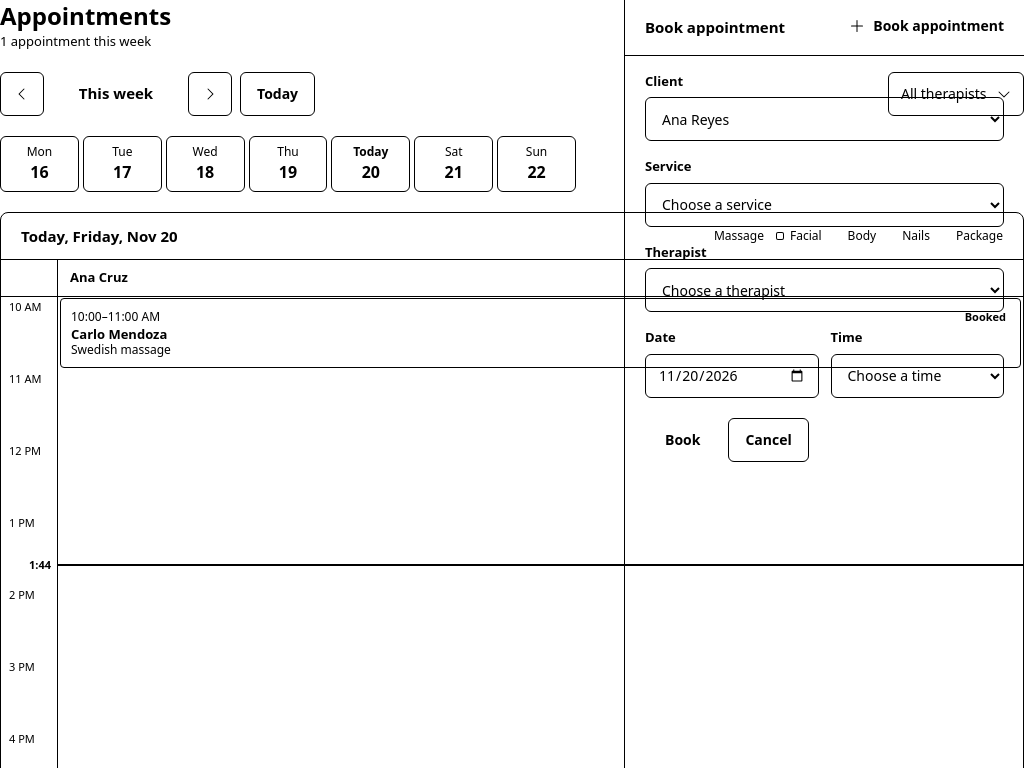
Scenario: Appointments › shows the overlap under the time, then books a free slot and lists it
Later steps or results of the test are not shown.
Select "Swedish massage · 60 min" in the dropdown with id "book-serviceId": (824, 204) [645,182,1004,226]
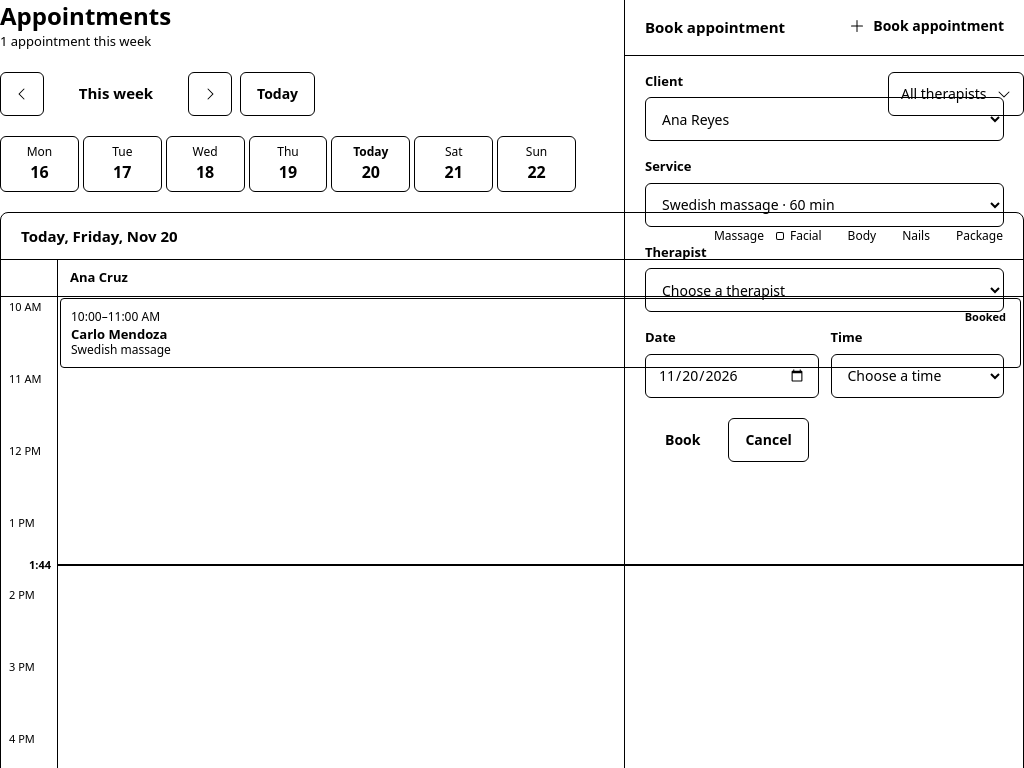
Select "Ana Cruz" in the dropdown with id "book-employeeId": (824, 290) [645,268,1004,312]
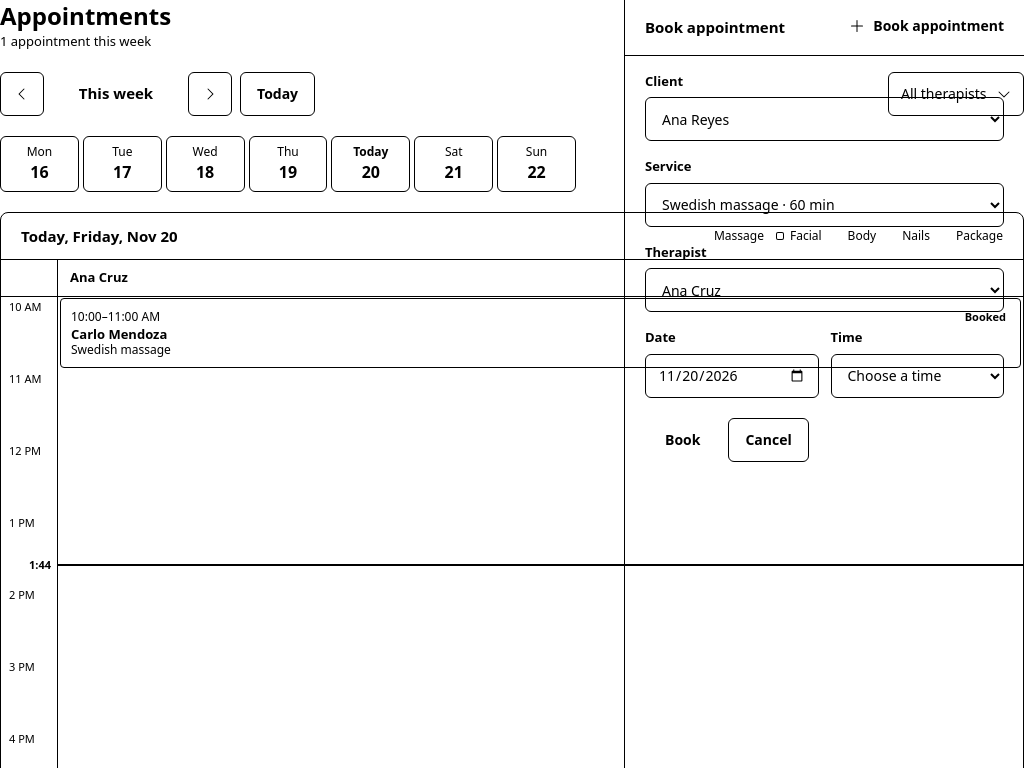
Select "10:30 AM" in the dropdown with id "book-time": (917, 376) [830,354,1004,398]
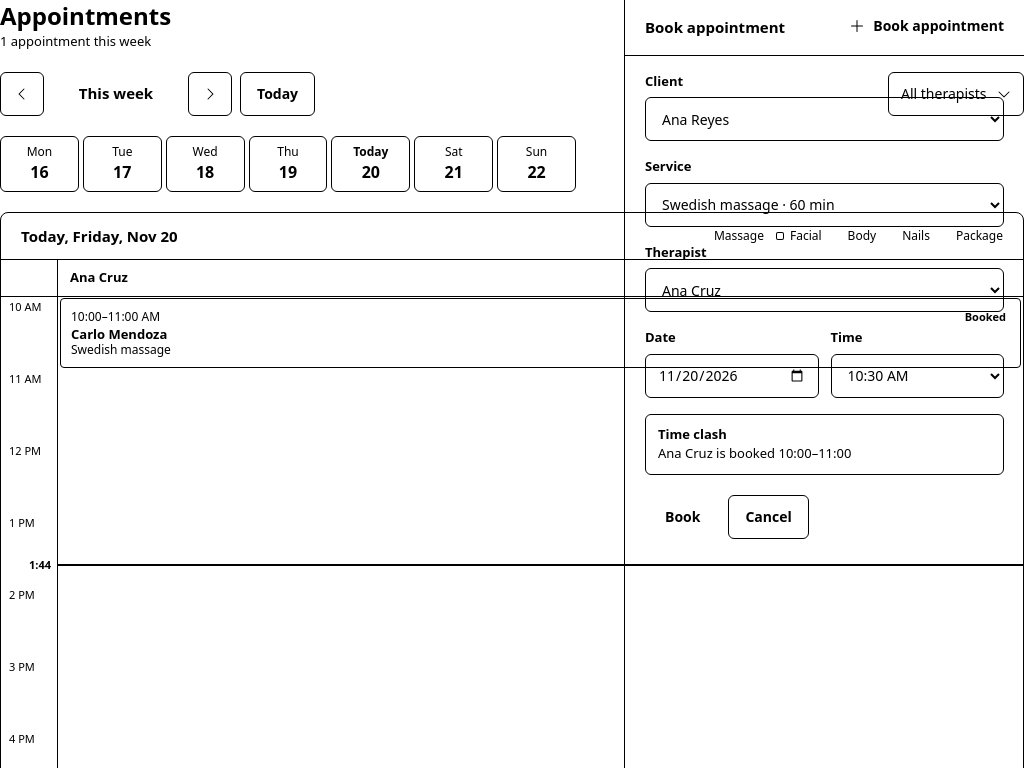
Check: the element named "Day list" does not show "Ana Reyes"
Check: the text with id "book-time-error" reads "Ana Cruz is booked 10:00–11:00", box [658,444,851,462]
